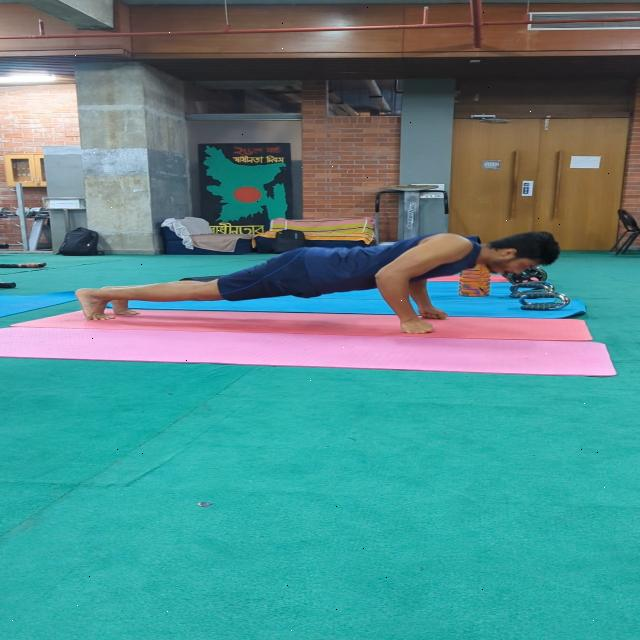Normal_PushUps: (59, 208, 563, 350)
